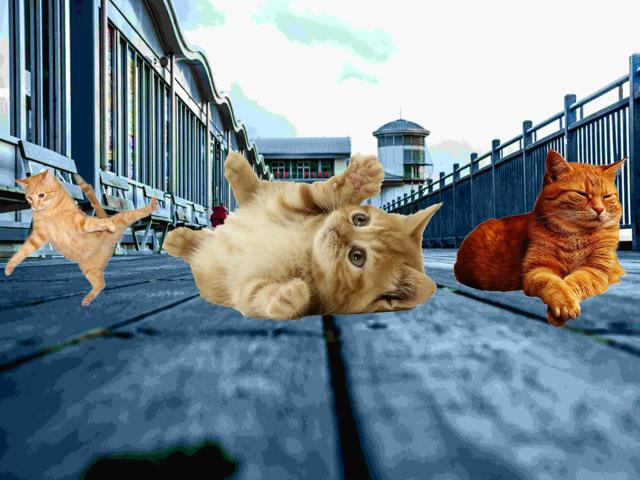cat: (164, 153, 442, 322), (455, 147, 635, 325), (5, 170, 157, 305)
